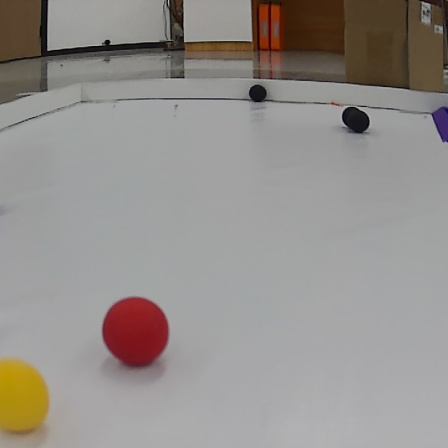black: (340, 102, 374, 135), (246, 84, 271, 103)
red: (100, 296, 171, 366)
yellow: (0, 359, 57, 435)
